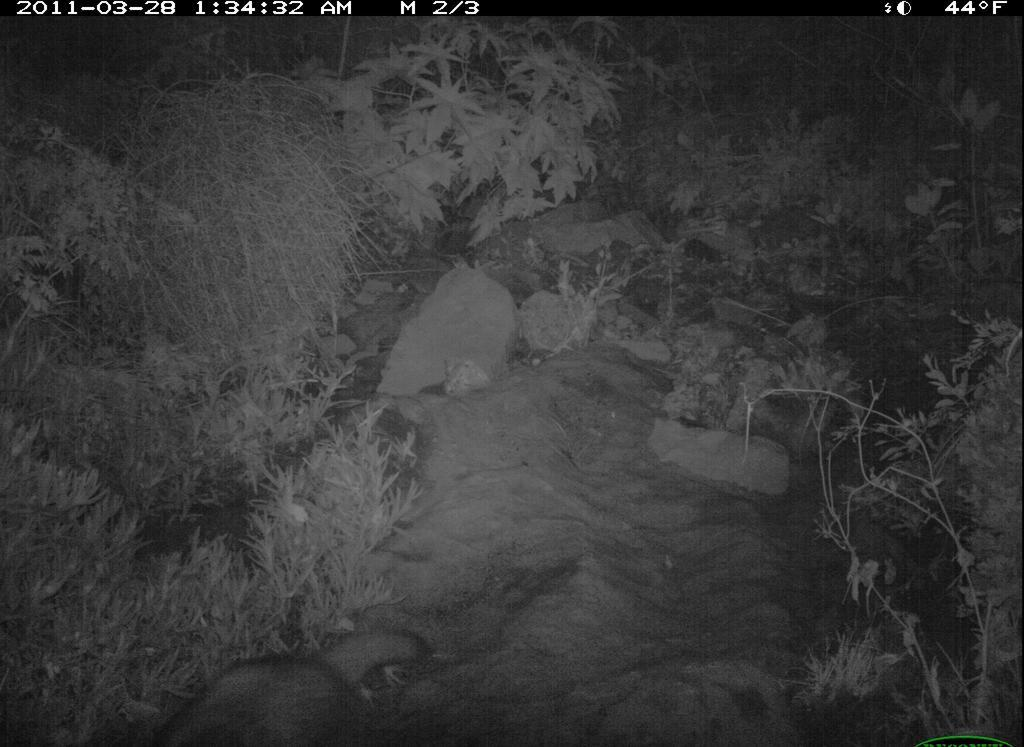raccoon: (155, 621, 442, 747)
